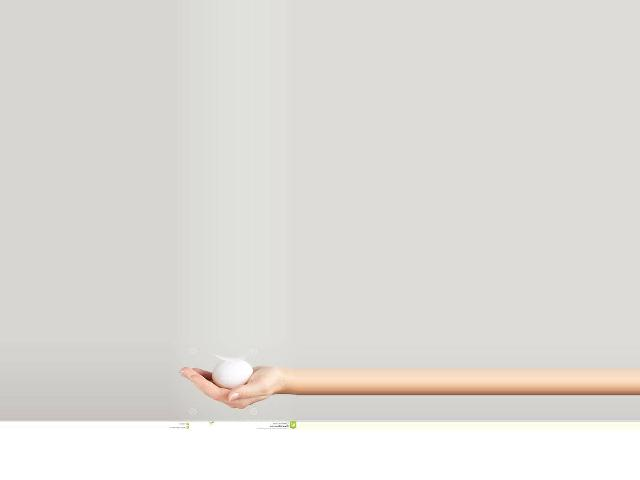egg: (210, 360, 252, 388)
